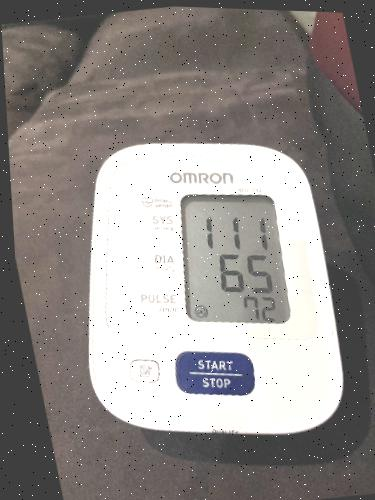bpm: (177, 188, 292, 329)
